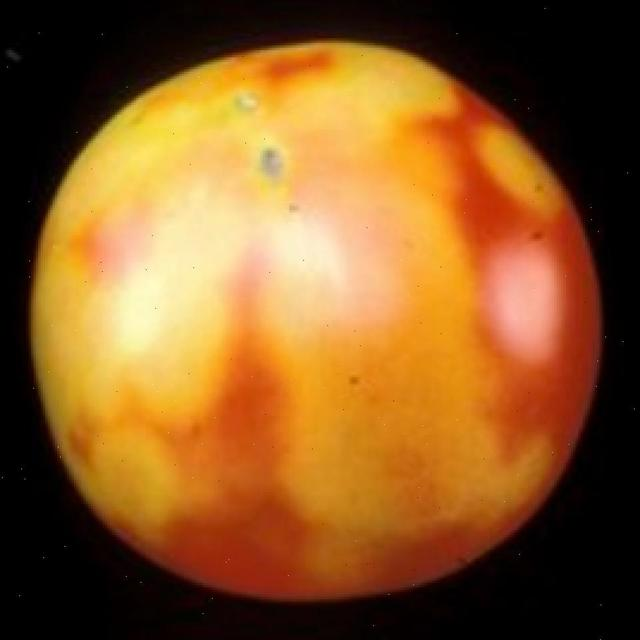Spotted wilt Virus Fruit: (13, 26, 38, 286)
